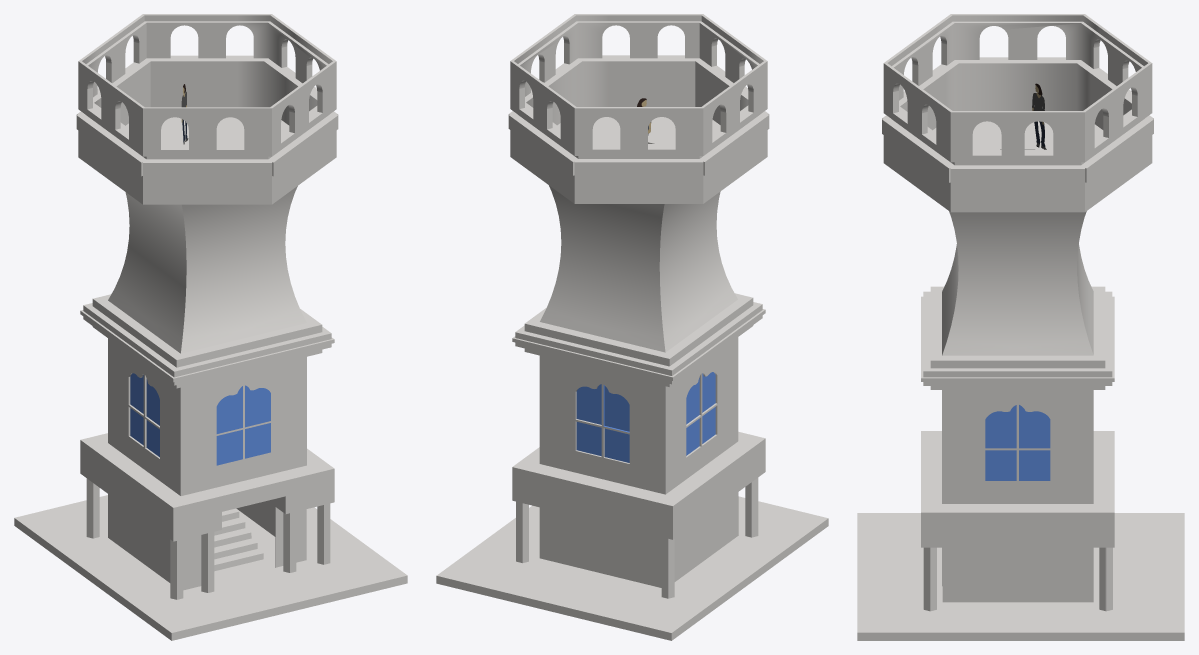
3 renders of one model, left to right at view 1: azimuth 30°, elevation 25°; view 2: azimuth 150°, elevation 25°; view 3: azimuth 270°, elevation 25°, orthographic. The views are drawn at different scales.
Visible parts, largest first — view 1: Layer0_001, floor 1_001; view 2: Layer0_001, floor 1_001; view 3: Layer0_001, floor 1_001, 2d Woman Susan_001.
Boxes of the visible parts, left/top/right/bottom form: Layer0_001: left=14, top=58, right=407, bottom=640; floor 1_001: left=76, top=14, right=338, bottom=582; Layer0_001: left=436, top=23, right=828, bottom=640; floor 1_001: left=508, top=14, right=769, bottom=587; Layer0_001: left=857, top=23, right=1184, bottom=640; floor 1_001: left=882, top=14, right=1153, bottom=611; 2d Woman Susan_001: left=1032, top=83, right=1046, bottom=149.
Size of the model in its own units: 271 by 544 by 313.
